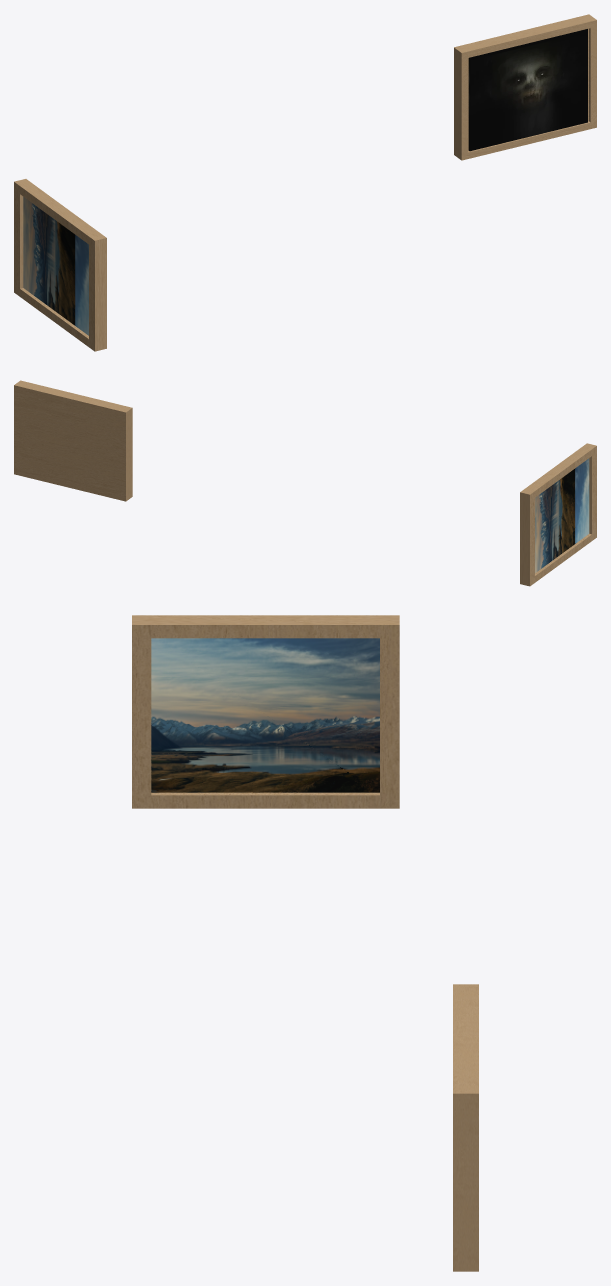
3 renders of one model, top to bottom at view 1: azimuth 30°, elevation 25°; view 2: azimuth 150°, elevation 25°; view 3: azimuth 270°, elevation 25°, orthographic. The views are drawn at different scales.
Parts seen in each view (by area): view 1: 귀신포스터.001, 사진; view 2: 귀신포스터.001, 사진; view 3: 사진, 귀신포스터.001.
Part boxes in pixels (<box>): 귀신포스터.001: <box>454,14,596,160</box>; 사진: <box>14,179,106,351</box>; 귀신포스터.001: <box>14,380,132,501</box>; 사진: <box>520,443,596,586</box>; 사진: <box>132,615,399,808</box>; 귀신포스터.001: <box>453,984,478,1271</box>.
Bounding box in the file's own units: 1041 × 190 × 315.
Materials: 3 (3 with a texture image).
